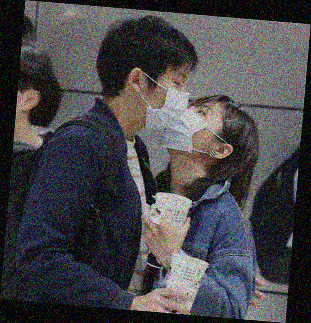with_mask: (159, 101, 222, 152), (140, 69, 190, 126)
